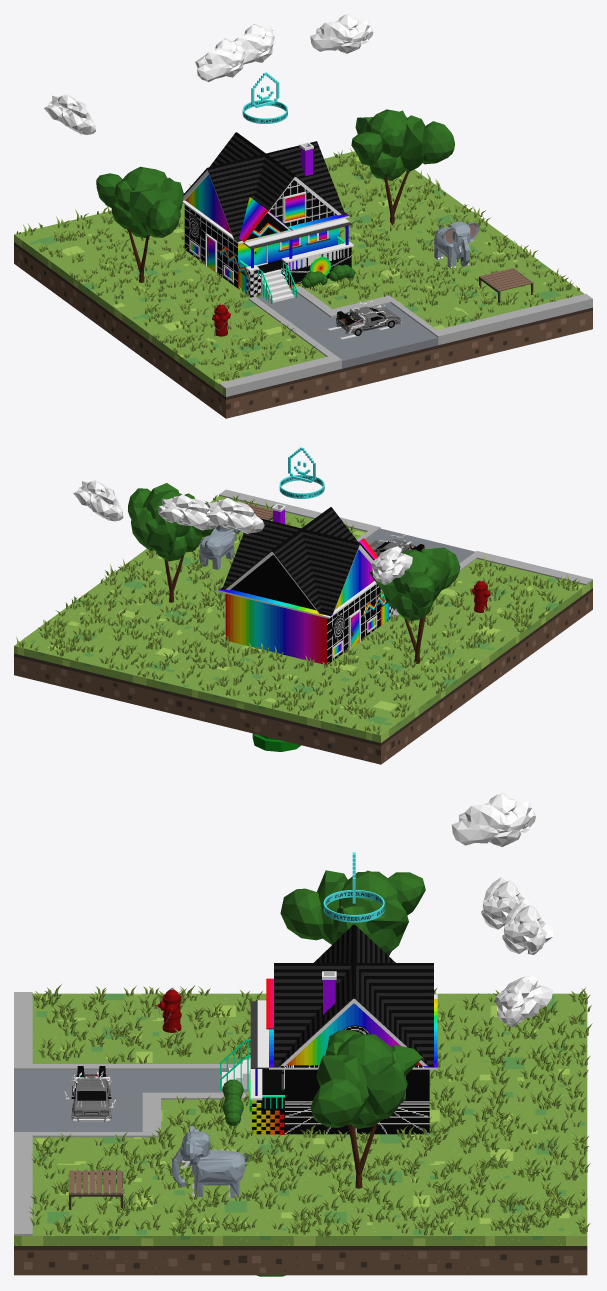
The picture shows the model from 3 angles, top to bottom: view 1: azimuth 30°, elevation 25°; view 2: azimuth 150°, elevation 25°; view 3: azimuth 270°, elevation 25°; orthographic projection. The views are drawn at different scales.
Visible parts, largest first — view 1: Cube.006, Cube.1320, Circle.012_Grass_0.192, Cube.007, tree, tree.001, ANIMAL_ELEFANTE, VEHICLES_DELOREAN, TYPE_PREMIUM, Cube.009; view 2: Cube.006, Cube.1320, Circle.012_Grass_0.192, Cube.007, tree.001, tree, ANIMAL_ELEFANTE, TYPE_PREMIUM, VEHICLES_DELOREAN, UNDERGROUND_PIPES, OBJRANDOM_FIRE_HYDRANT; view 3: Cube.006, Circle.012_Grass_0.192, Cube.1320, tree, Cube.007, tree.001, ANIMAL_ELEFANTE, VEHICLES_DELOREAN, Cube.009, TYPE_PREMIUM, OBJRANDOM_FIRE_HYDRANT.
Part boxes in pixels (bbox=[...]): Cube.006: bbox=[14, 151, 592, 418]; Cube.1320: bbox=[182, 132, 353, 303]; Circle.012_Grass_0.192: bbox=[16, 148, 579, 381]; Cube.007: bbox=[44, 14, 373, 134]; tree: bbox=[351, 109, 454, 225]; tree.001: bbox=[96, 166, 183, 282]; ANIMAL_ELEFANTE: bbox=[434, 221, 479, 269]; VEHICLES_DELOREAN: bbox=[324, 301, 401, 339]; TYPE_PREMIUM: bbox=[242, 72, 287, 123]; Cube.009: bbox=[479, 268, 533, 302]; Cube.006: bbox=[14, 489, 592, 764]; Cube.1320: bbox=[218, 503, 392, 664]; Circle.012_Grass_0.192: bbox=[16, 495, 579, 734]; Cube.007: bbox=[73, 480, 412, 585]; tree.001: bbox=[369, 547, 460, 663]; tree: bbox=[128, 483, 213, 602]; ANIMAL_ELEFANTE: bbox=[199, 525, 240, 569]; TYPE_PREMIUM: bbox=[279, 447, 324, 498]; VEHICLES_DELOREAN: bbox=[369, 534, 424, 556]; UNDERGROUND_PIPES: bbox=[252, 733, 300, 751]; OBJRANDOM_FIRE_HYDRANT: bbox=[471, 579, 490, 612]; Cube.006: bbox=[14, 992, 587, 1275]; Circle.012_Grass_0.192: bbox=[29, 984, 592, 1237]; Cube.1320: bbox=[220, 924, 437, 1134]; tree: bbox=[310, 1030, 422, 1188]; Cube.007: bbox=[451, 793, 552, 1026]; tree.001: bbox=[280, 870, 425, 955]; ANIMAL_ELEFANTE: bbox=[172, 1126, 248, 1197]; VEHICLES_DELOREAN: bbox=[64, 1066, 115, 1121]; Cube.009: bbox=[69, 1170, 122, 1209]; TYPE_PREMIUM: bbox=[323, 852, 384, 922]; OBJRANDOM_FIRE_HYDRANT: bbox=[158, 987, 181, 1032].
Size of the model in its own units: 4071 by 2884 by 4040.
36 materials, 6 textured.
